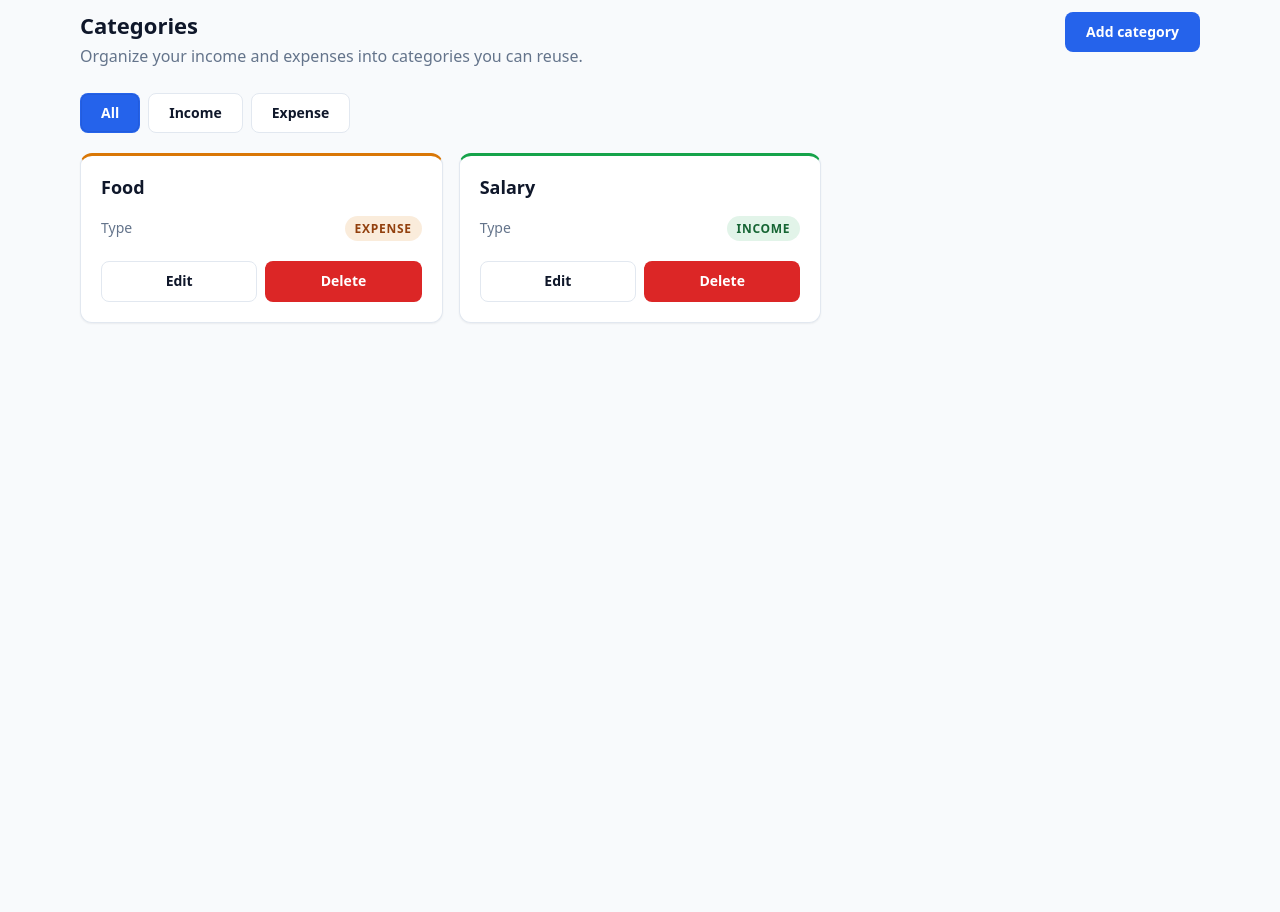
Test case: CategoriesPage create › validates that the category name is required
Click the button "Add category": (1133, 32) [1065,12,1200,52]
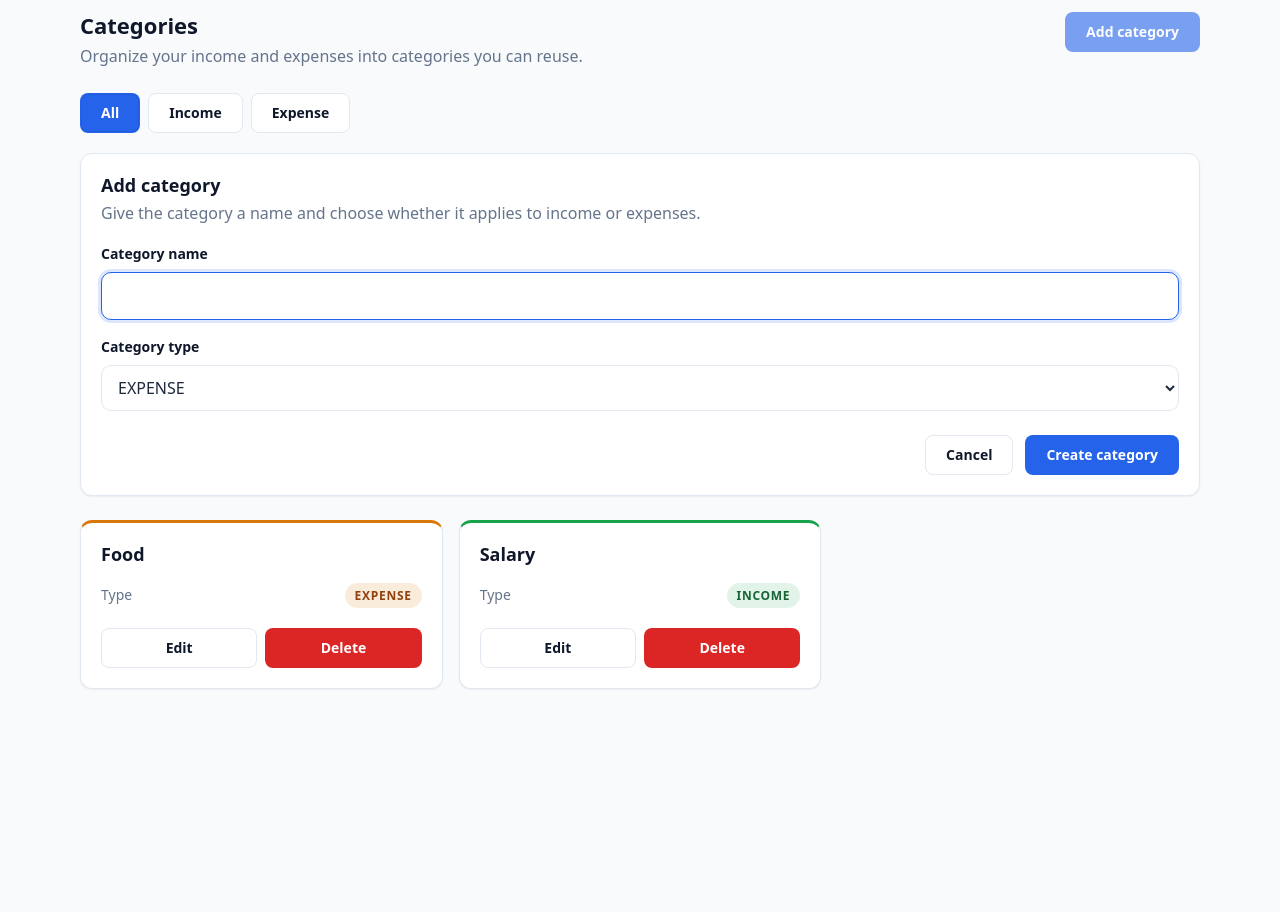
Click the button "Create category": (1102, 455) [1025,435,1179,475]
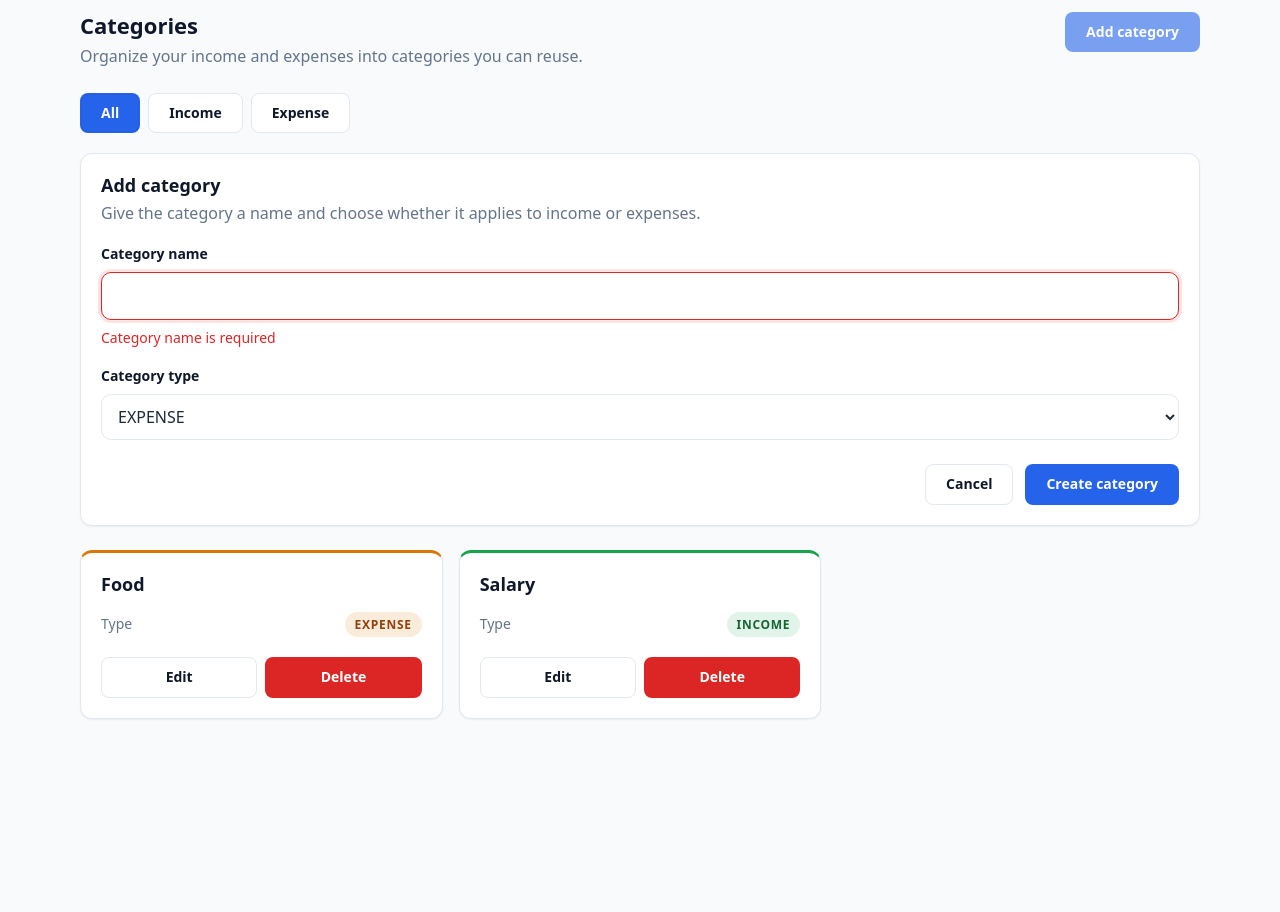
Now the text "Category name is required" is shown, box [101,328,276,347]
